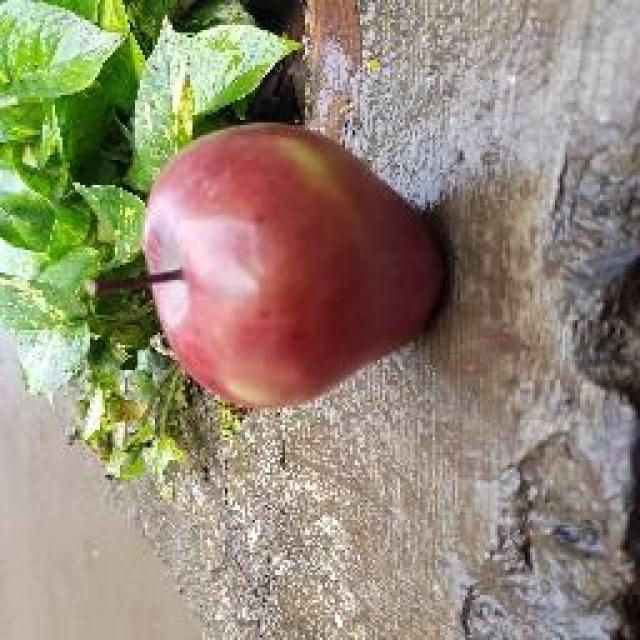Good_Apple: (140, 122, 450, 412)
